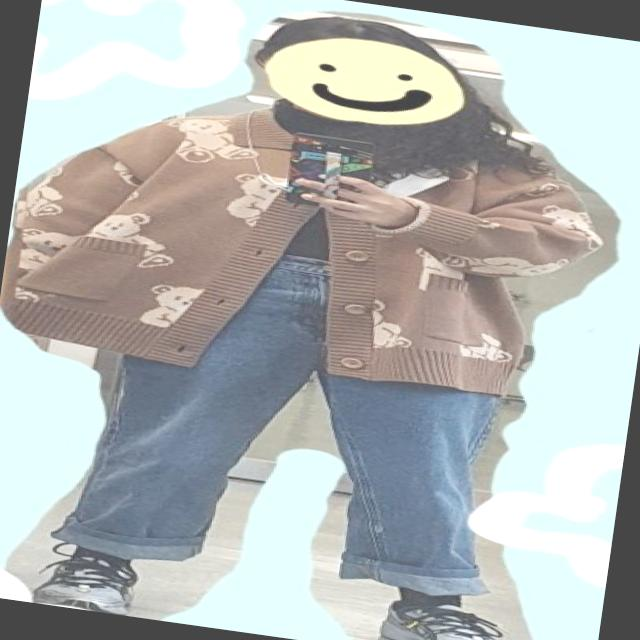cardigan: (0, 76, 613, 420)
denimpants: (55, 232, 537, 610)
